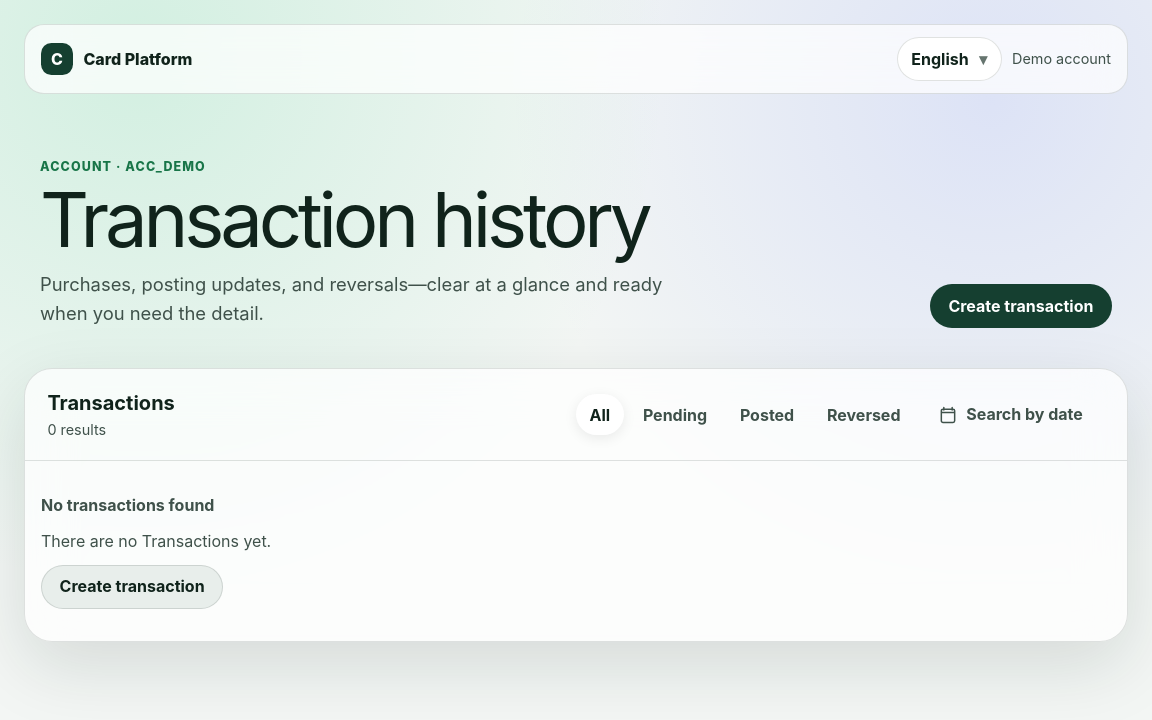
Test: App › creates an exact-minor-unit purchase with a frontend idempotency key
Click the 1st button "Create transaction" at (1021, 306), box [930,284,1112,328]
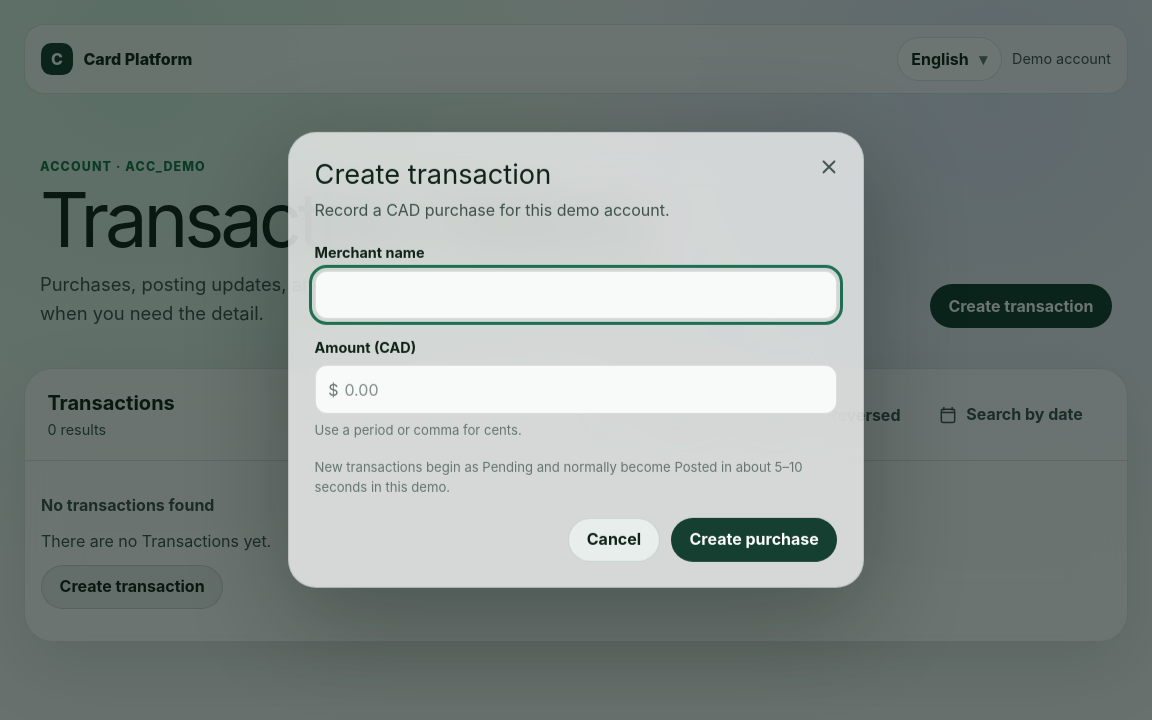
Type "Northern Grocer" into the field labelled "Merchant name" at (576, 295), box [315,270,837,319]
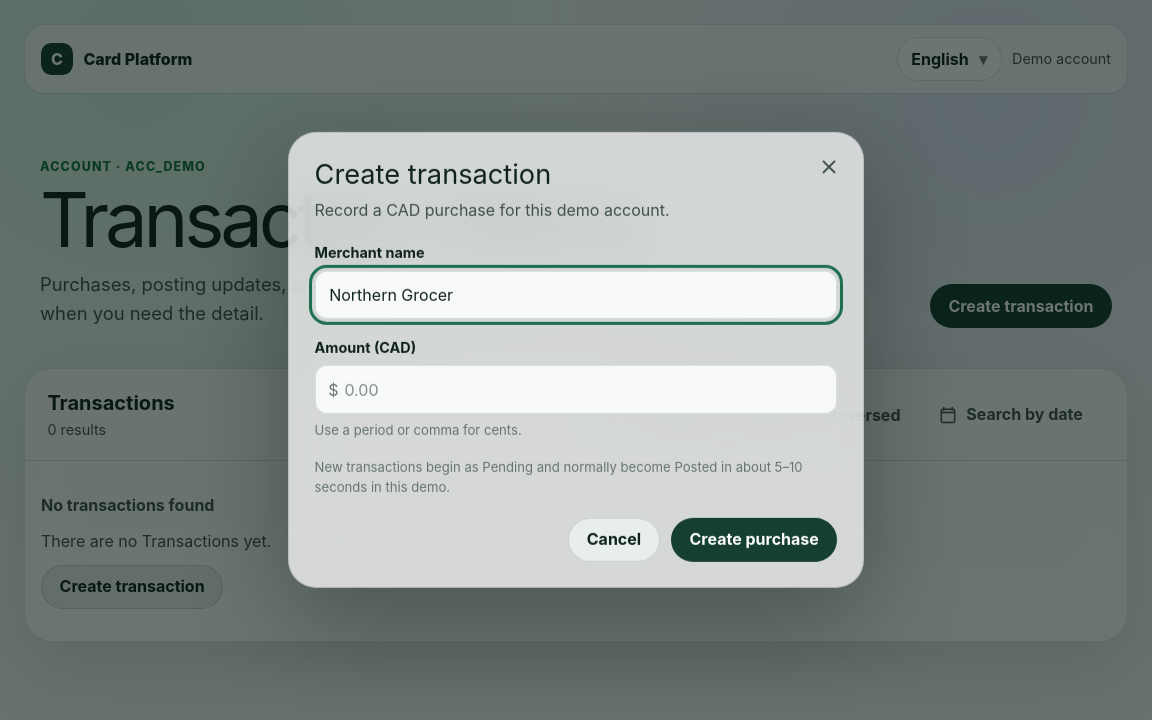
Type "25,99" into the field labelled "Amount (CAD)" at (576, 390), box [315,365,837,414]
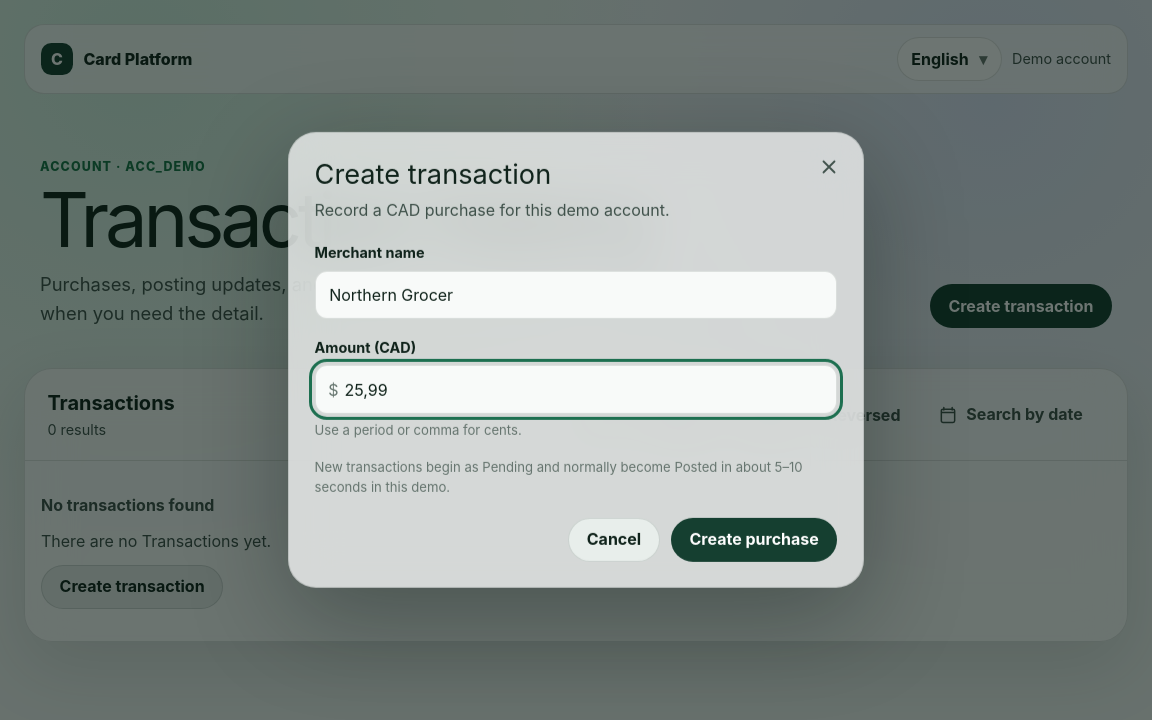
Click the button "Create purchase" at (754, 540), box [671,518,837,562]
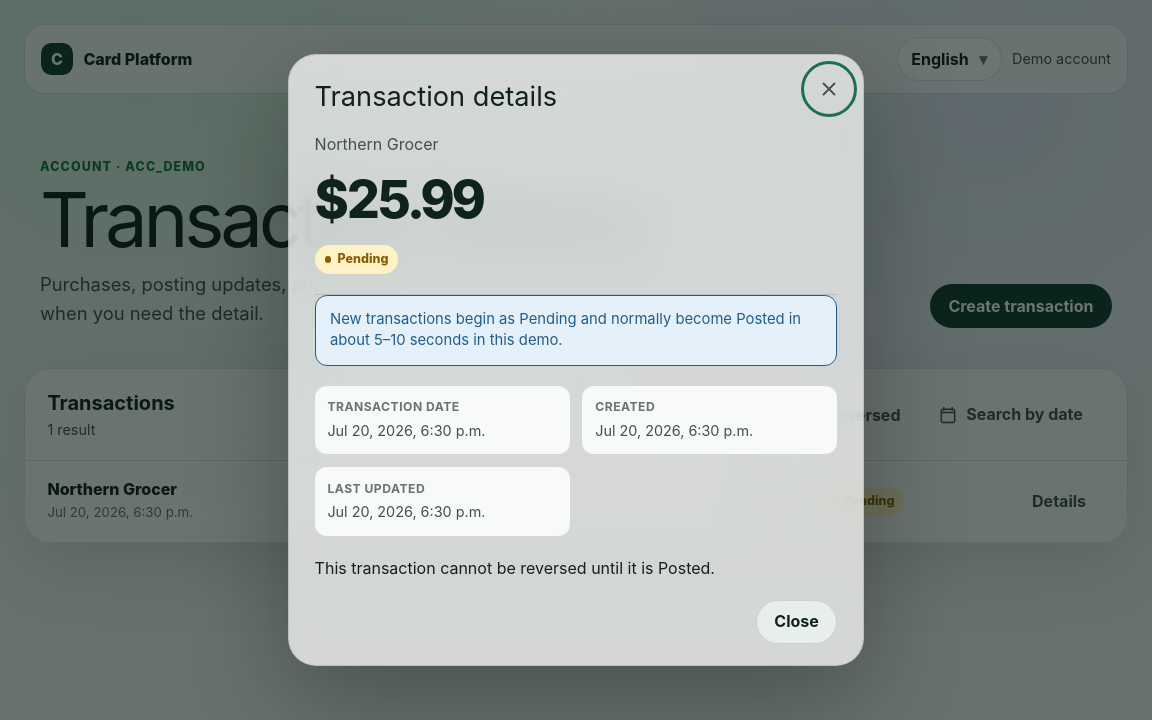
Expected: the text "New transactions begin as Pending" is shown, [330,310,801,349]
Expected: the dialog "Transaction details" is shown, [288,54,864,666]
